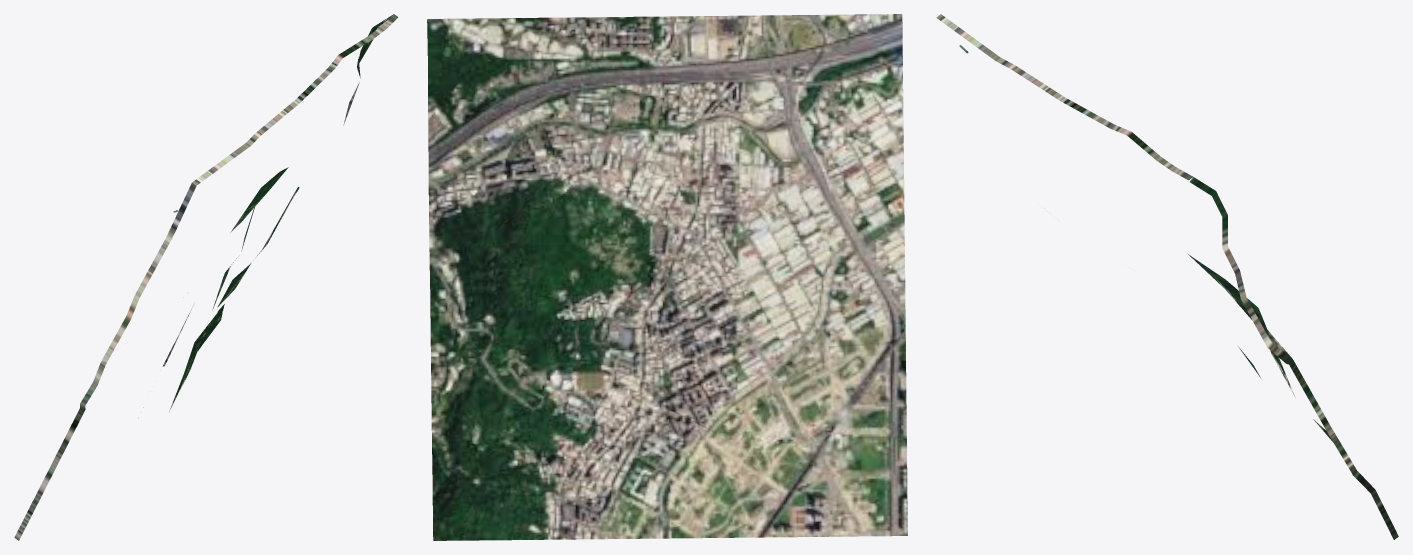
3 renders of one model, left to right at view 1: azimuth 30°, elevation 25°; view 2: azimuth 150°, elevation 25°; view 3: azimuth 270°, elevation 25°, orthographic. The views are drawn at different scales.
Bounding box in the file's own units: 2417 × 2248 × 2191.
Materials: 1 (1 with a texture image).
